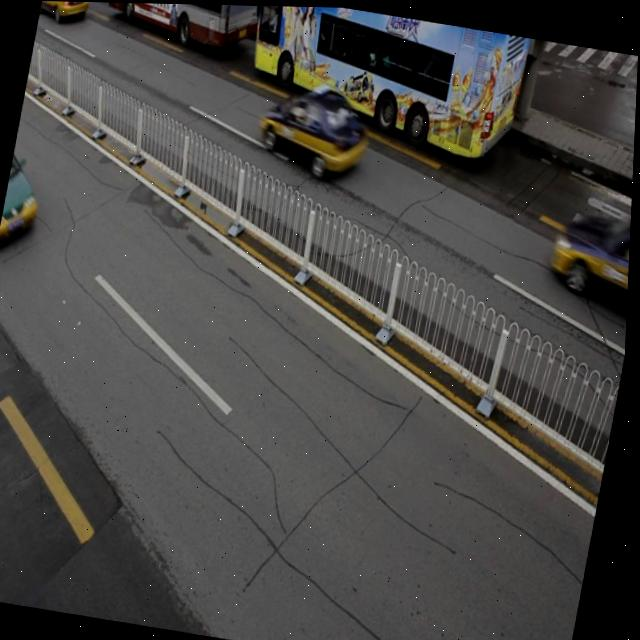car: (256, 81, 374, 181), (549, 201, 633, 307), (0, 157, 47, 254), (38, 1, 93, 27)
van: (239, 4, 529, 161), (97, 2, 264, 53)
